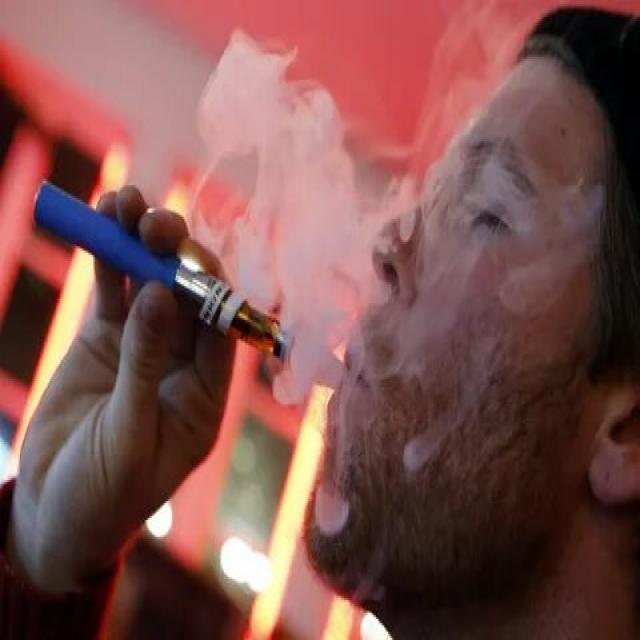cigarette: (31, 170, 309, 379)
